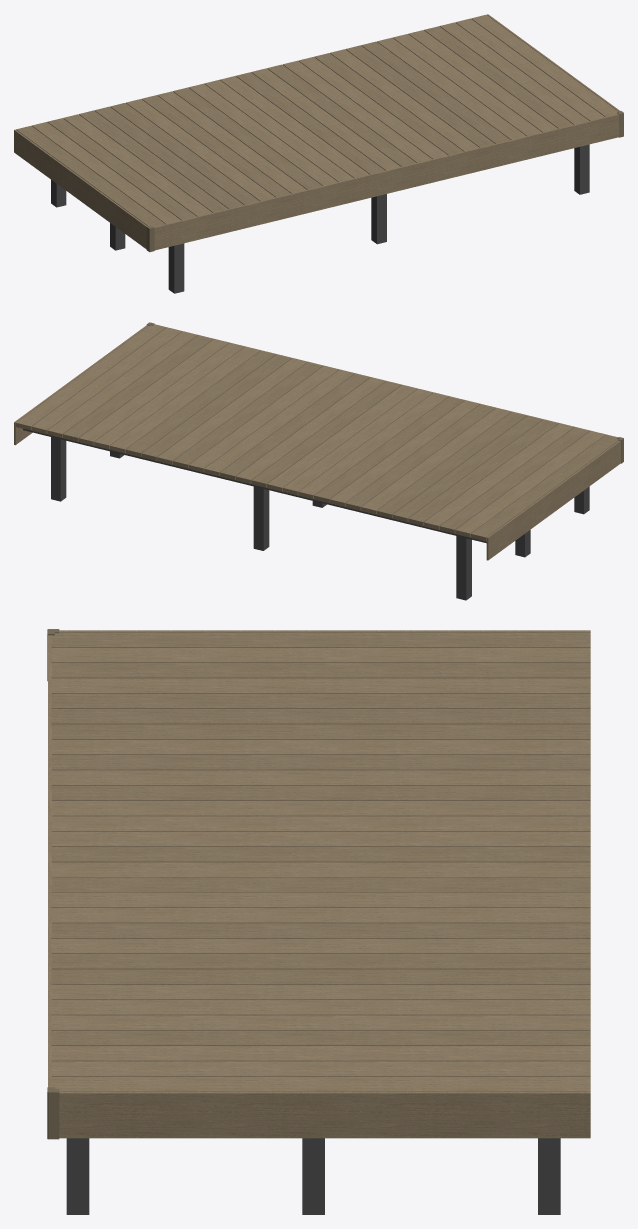
Rendered from ecowoodrealdeck_550-2k-6s_olive1.fbx.
The picture shows the model from 3 angles, top to bottom: view 1: azimuth 30°, elevation 25°; view 2: azimuth 150°, elevation 25°; view 3: azimuth 270°, elevation 25°; orthographic projection. The views are drawn at different scales.
Parts seen in each view (by area): view 1: ecowoodrealdeck_550-2k-6s_olive; view 2: ecowoodrealdeck_550-2k-6s_olive; view 3: ecowoodrealdeck_550-2k-6s_olive.
Boxes of the visible parts, left/top/right/bottom form: ecowoodrealdeck_550-2k-6s_olive: left=14, top=14, right=623, bottom=293; ecowoodrealdeck_550-2k-6s_olive: left=14, top=322, right=623, bottom=600; ecowoodrealdeck_550-2k-6s_olive: left=47, top=629, right=590, bottom=1214.
Bounding box in the file's own units: 363 × 55.4 × 180.
Materials: 5 (4 with a texture image).
